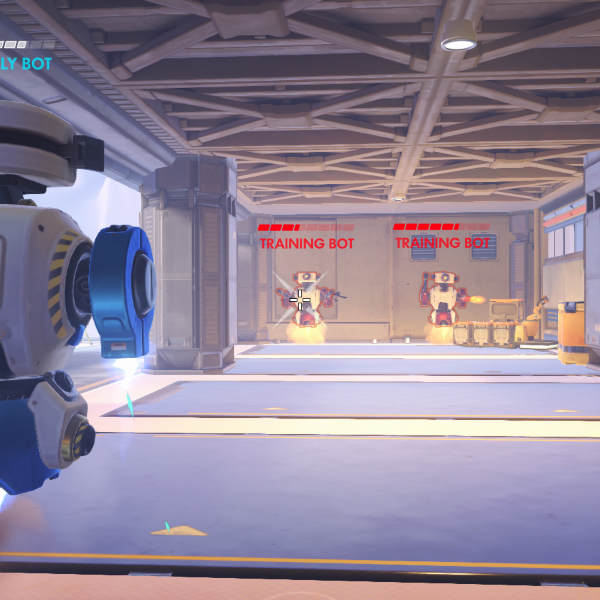hpbar: (393, 223, 491, 230), (258, 224, 355, 231)
